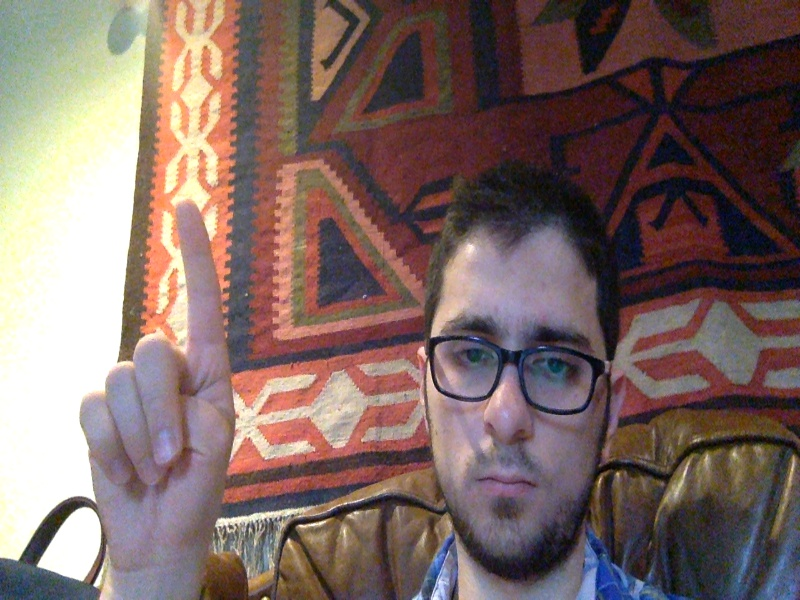1-hand: (80, 199, 235, 573)
